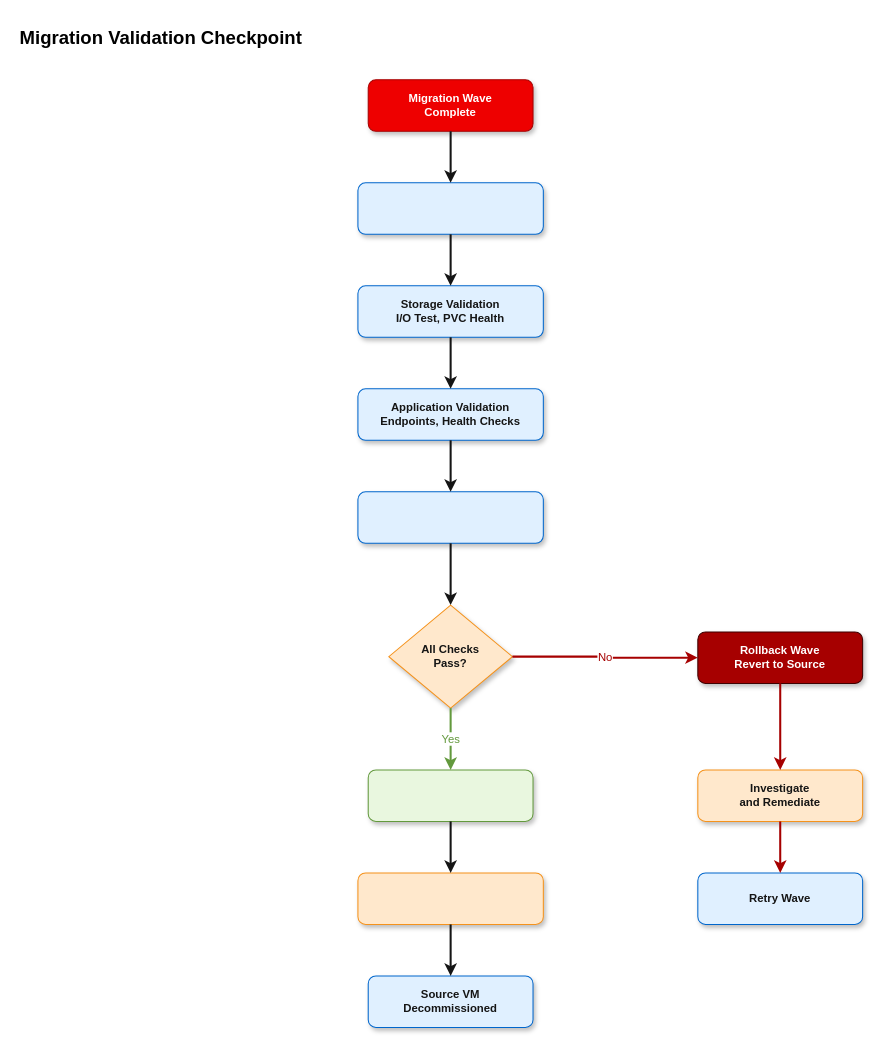
Image size: 887x1053. Some labels were removed from this diagram. The shapes that lost their labels are listed below. From the top down, each one's centre as x and y in pixels, then its label:
point 451,210: Network Validation Ping, DNS, VLAN Reach
point 451,519: Performance Baseline CPU, Memory, Disk I/O
point 451,797: App Owner Sign-Off
point 451,900: Holdback Period Source VM Powered Off
